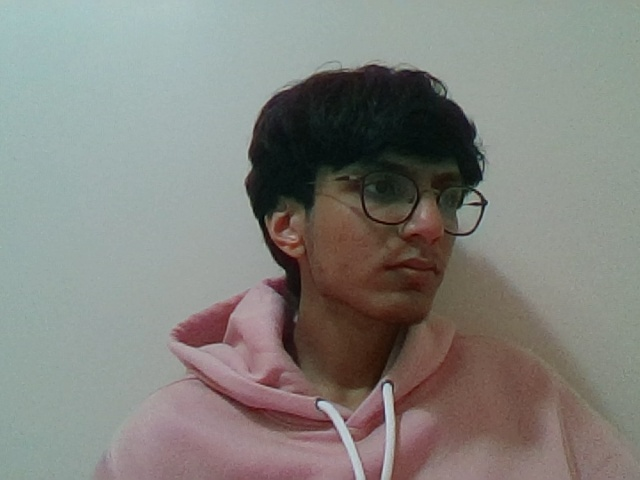Face_mask_not_found: (259, 195, 515, 330)
